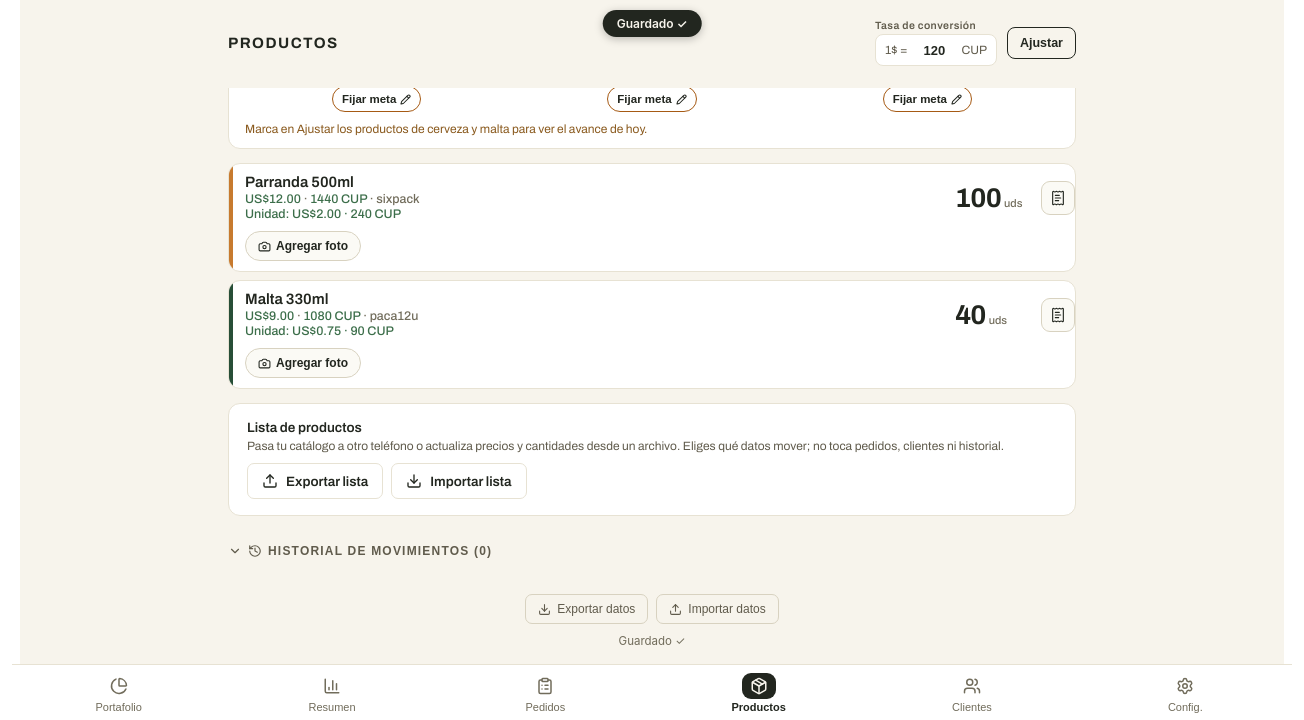
Test: Lista de productos: exportar › Cancelar cierra el panel
The width and height of the screenshot is (1304, 720).
(page scrolled)
What coordinates should you click on to do the following:
click the button "Exportar lista"
I would click on:
 (315, 481)
Its box is [247,463,383,499].
(page scrolled)
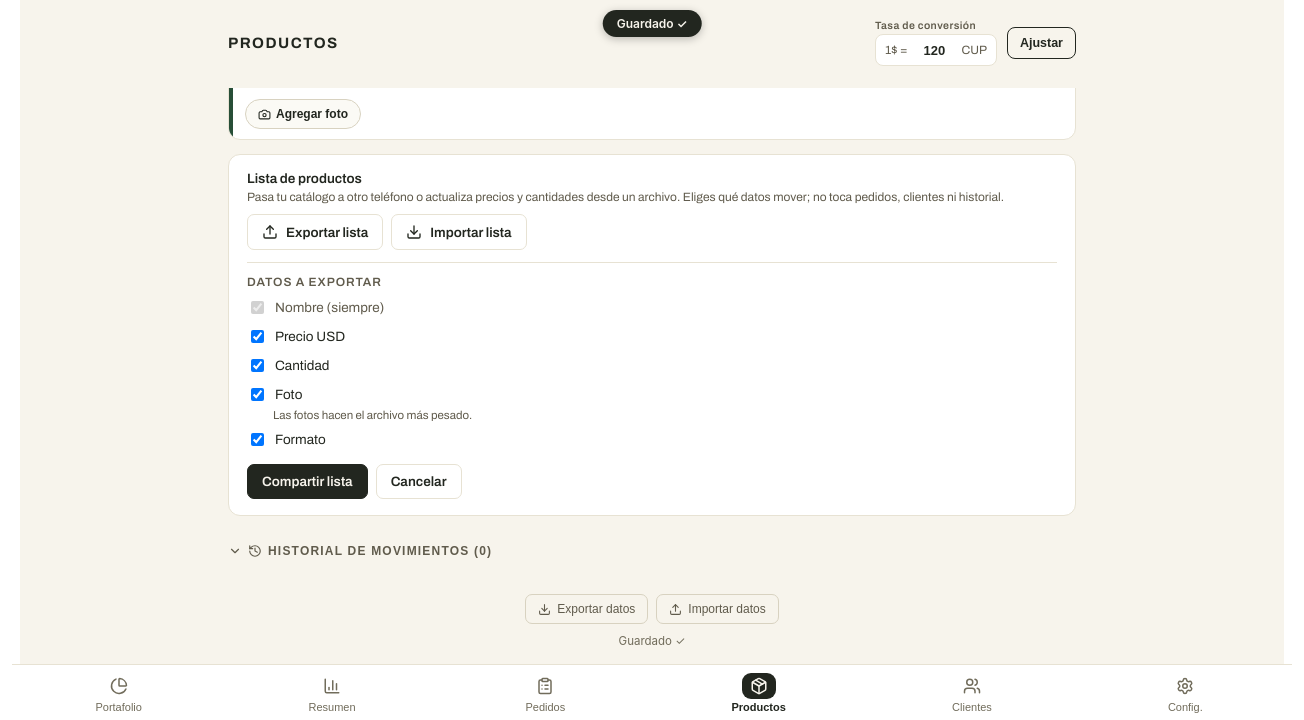
What coordinates should you click on to do the following:
click the button "Cancelar"
I would click on:
 (419, 482)
Its box is [376,464,462,499].
(page scrolled)
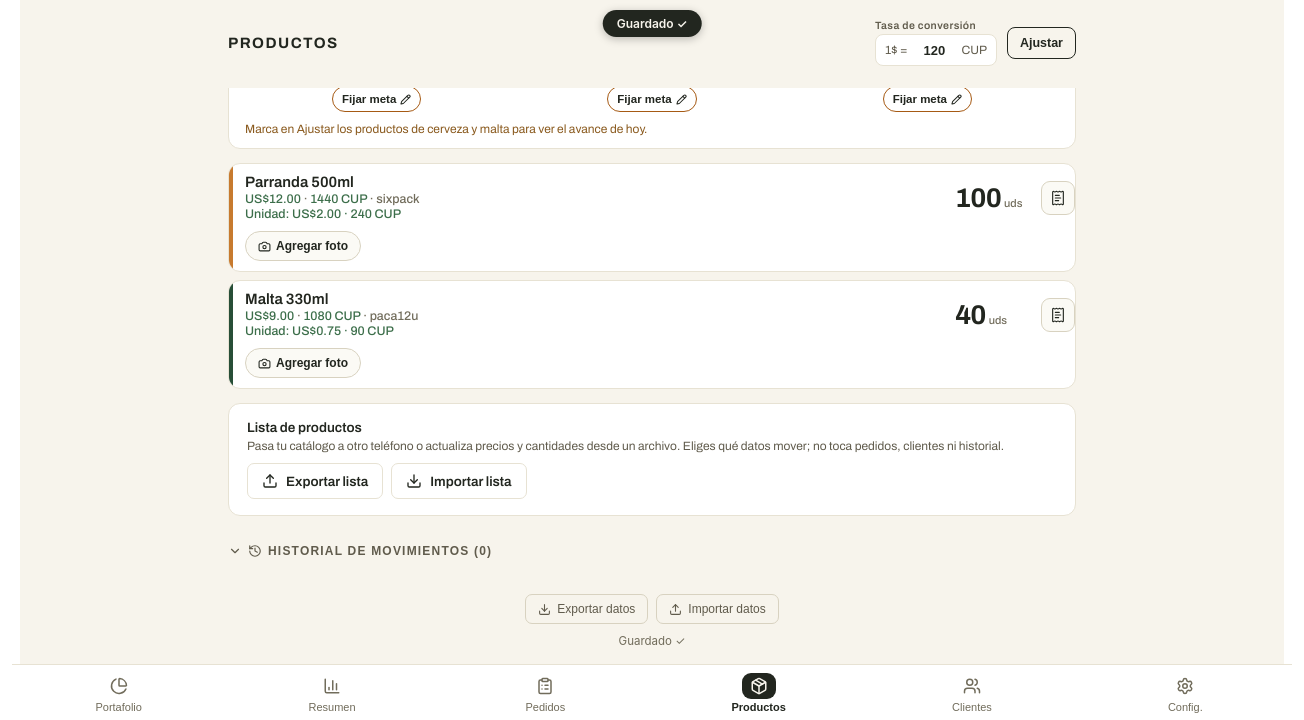
Now the text "DATOS A EXPORTAR" is gone
